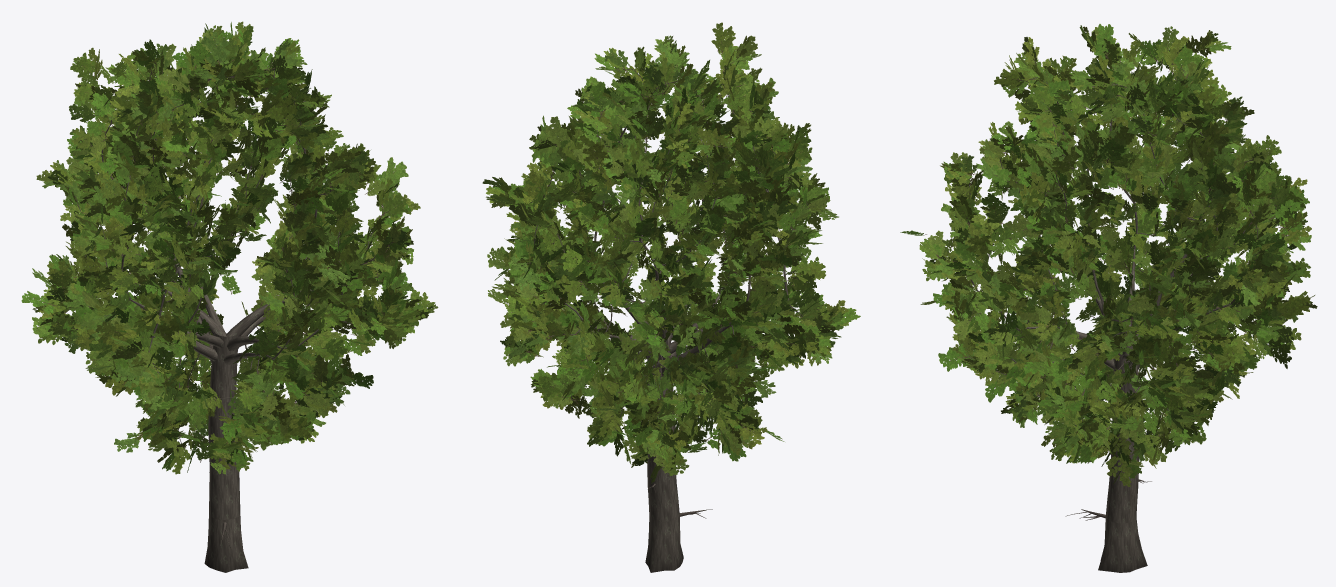
Rendered from lipa_stara.glb.
The picture shows the model from 3 angles, left to right: view 1: azimuth 30°, elevation 25°; view 2: azimuth 150°, elevation 25°; view 3: azimuth 270°, elevation 25°; orthographic projection. The views are drawn at different scales.
Parts seen in each view (by area): view 1: lipa_stara; view 2: lipa_stara; view 3: lipa_stara.
Boxes of the visible parts, x1,y1,x2,y2 form: lipa_stara: [21, 21, 438, 572]; lipa_stara: [482, 22, 860, 572]; lipa_stara: [900, 24, 1317, 572].
Bounding box in the file's own units: 16.78 × 22.52 × 16.97.
Materials: 2 (2 with a texture image).
